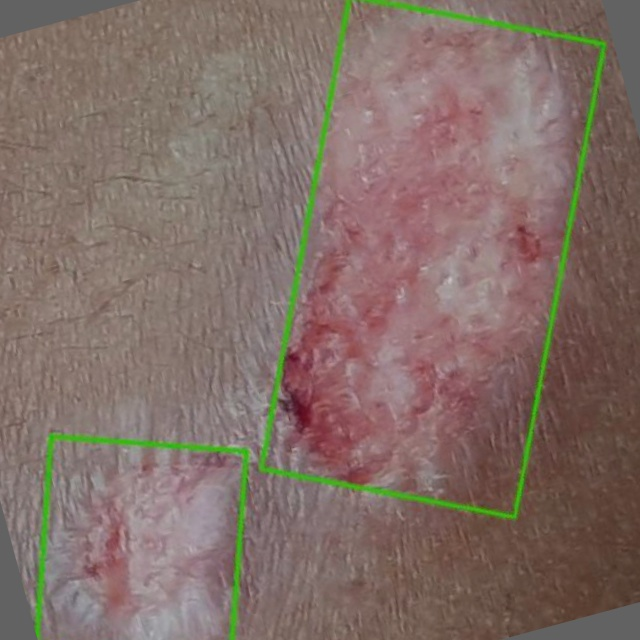Eczema: (261, 0, 604, 517), (35, 434, 248, 639)
